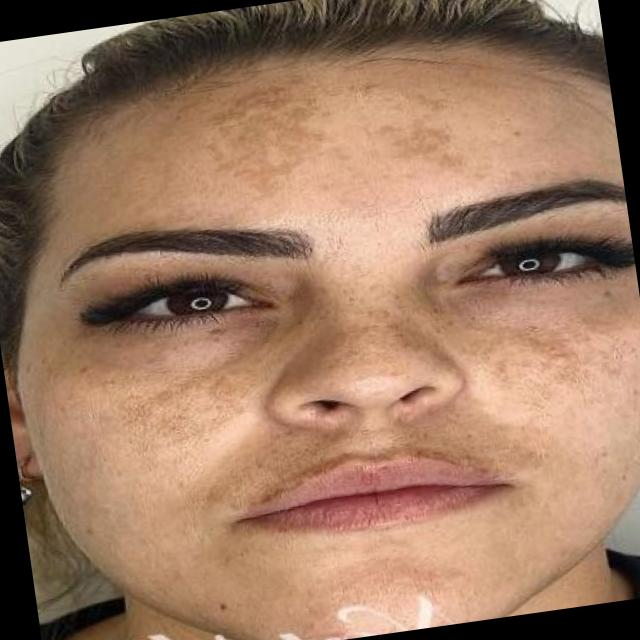melasma: (112, 53, 623, 223), (18, 326, 300, 606), (399, 278, 640, 553), (212, 411, 496, 500), (268, 300, 441, 401)
